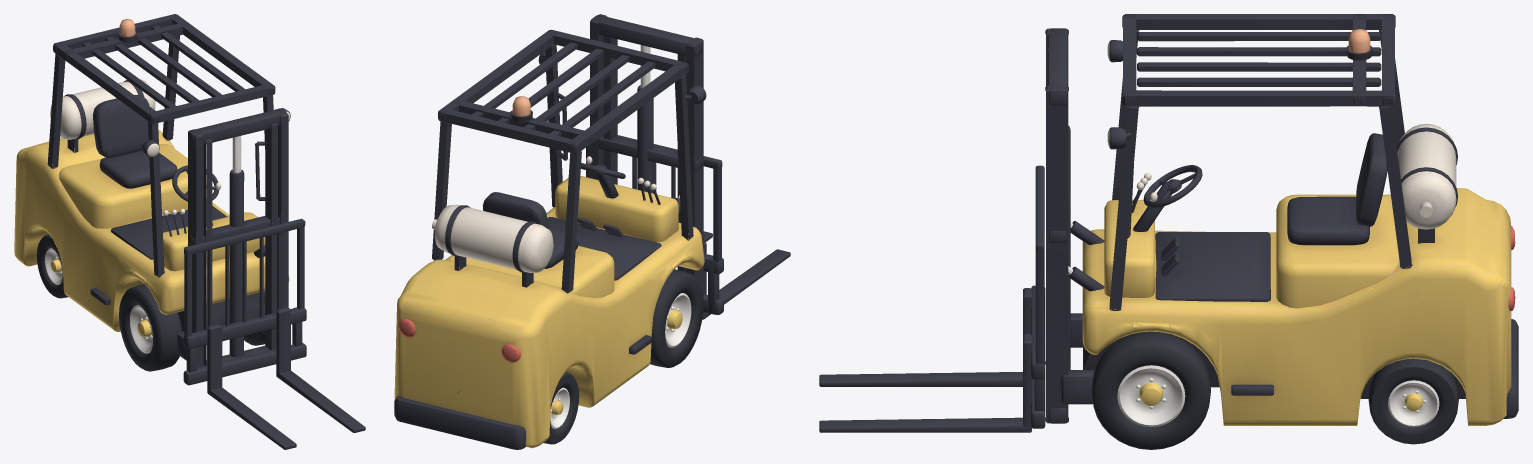
Rendered from forklift-light.glb.
3 views of the same model, side by side, from view 1: azimuth 30°, elevation 25°; view 2: azimuth 150°, elevation 25°; view 3: azimuth 270°, elevation 25° (orthographic). The views are drawn at different scales.
Parts seen in each view (by area): view 1: forklift_body, forklift_fork_carriage, forklift_wheel_fr, forklift_wheel_rr; view 2: forklift_body, forklift_wheel_fr, forklift_fork_carriage, forklift_wheel_rr, forklift_headlights; view 3: forklift_body, forklift_wheel_fl, forklift_fork_carriage, forklift_wheel_rl, forklift_headlights.
Part boxes in pixels (box(x1,y1,x2,y2)): forklift_body: box(14, 14, 289, 367); forklift_fork_carriage: box(183, 218, 365, 449); forklift_wheel_fr: box(119, 284, 182, 371); forklift_wheel_rr: box(36, 234, 68, 298); forklift_body: box(394, 14, 704, 449); forklift_wheel_fr: box(650, 269, 703, 367); forklift_fork_carriage: box(586, 135, 790, 319); forklift_wheel_rr: box(543, 372, 579, 444); forklift_headlights: box(538, 51, 706, 104); forklift_body: box(1045, 14, 1518, 425); forklift_wheel_fl: box(1091, 331, 1210, 449); forklift_fork_carriage: box(819, 165, 1045, 432); forklift_wheel_rl: box(1368, 358, 1458, 444); forklift_headlights: box(1107, 40, 1131, 149).
Size of the model in its own units: 1.26 by 2.32 by 3.87.
Materials: 16 (1 with a texture image).
